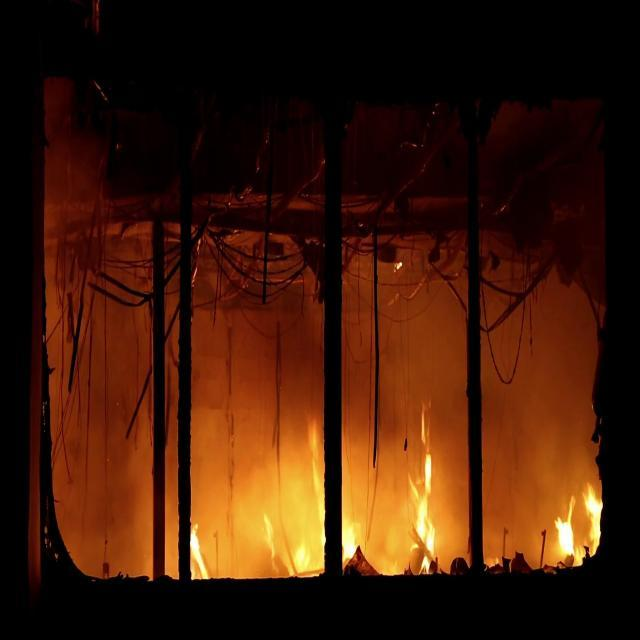Fire: (403, 398, 441, 574), (289, 414, 326, 580), (554, 484, 604, 566), (342, 520, 367, 572), (191, 519, 211, 579), (260, 514, 278, 574), (191, 237, 201, 288)
Smoke: (46, 217, 154, 580), (480, 226, 597, 550), (190, 246, 324, 432), (340, 278, 468, 438)
